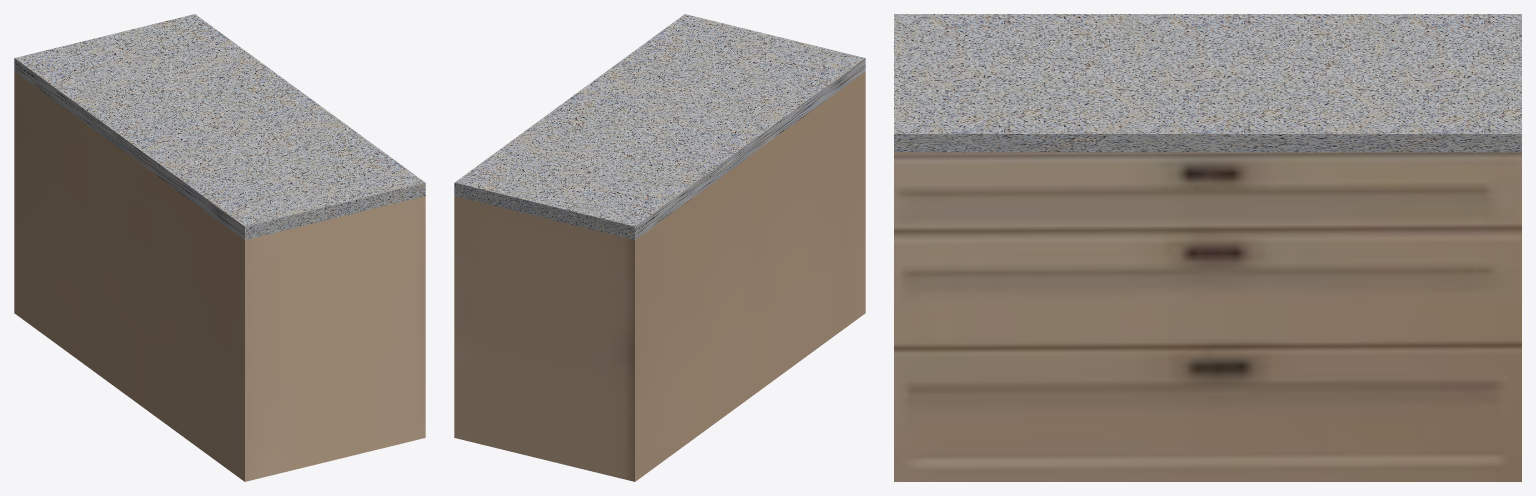
File: kitchenStufffbx.fbx
The picture shows the model from 3 angles, left to right: view 1: azimuth 30°, elevation 25°; view 2: azimuth 150°, elevation 25°; view 3: azimuth 270°, elevation 25°; orthographic projection. The views are drawn at different scales.
Visible parts, largest first — view 1: Cube; view 2: Cube; view 3: Cube.
Part boxes in pixels (x1,y1,x2,y2): Cube: (14,14,425,481); Cube: (454,14,865,481); Cube: (894,14,1521,481).
Bounding box in the file's own units: 401 × 541 × 886.
